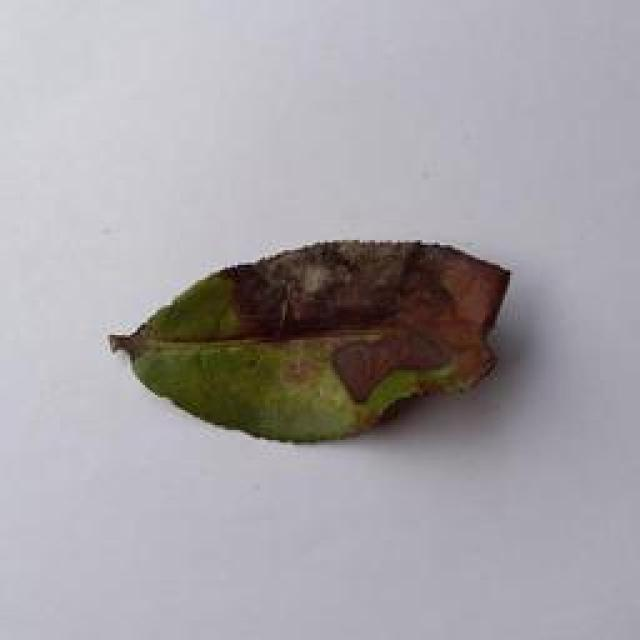Brown Blight: (91, 222, 521, 442)
